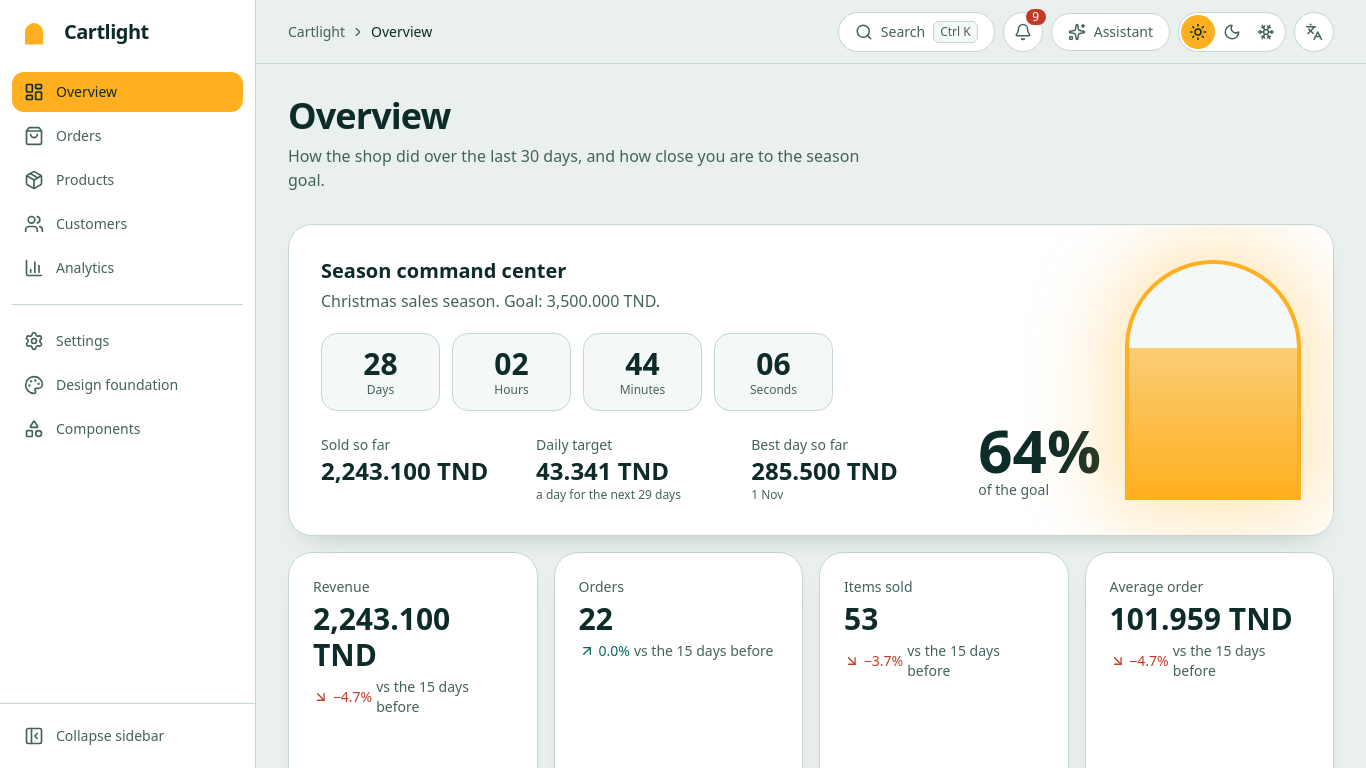
Test case: notifications center › marks everything as read
Click the button named "Notifications" at (1023, 32), box [1003,12,1043,52]
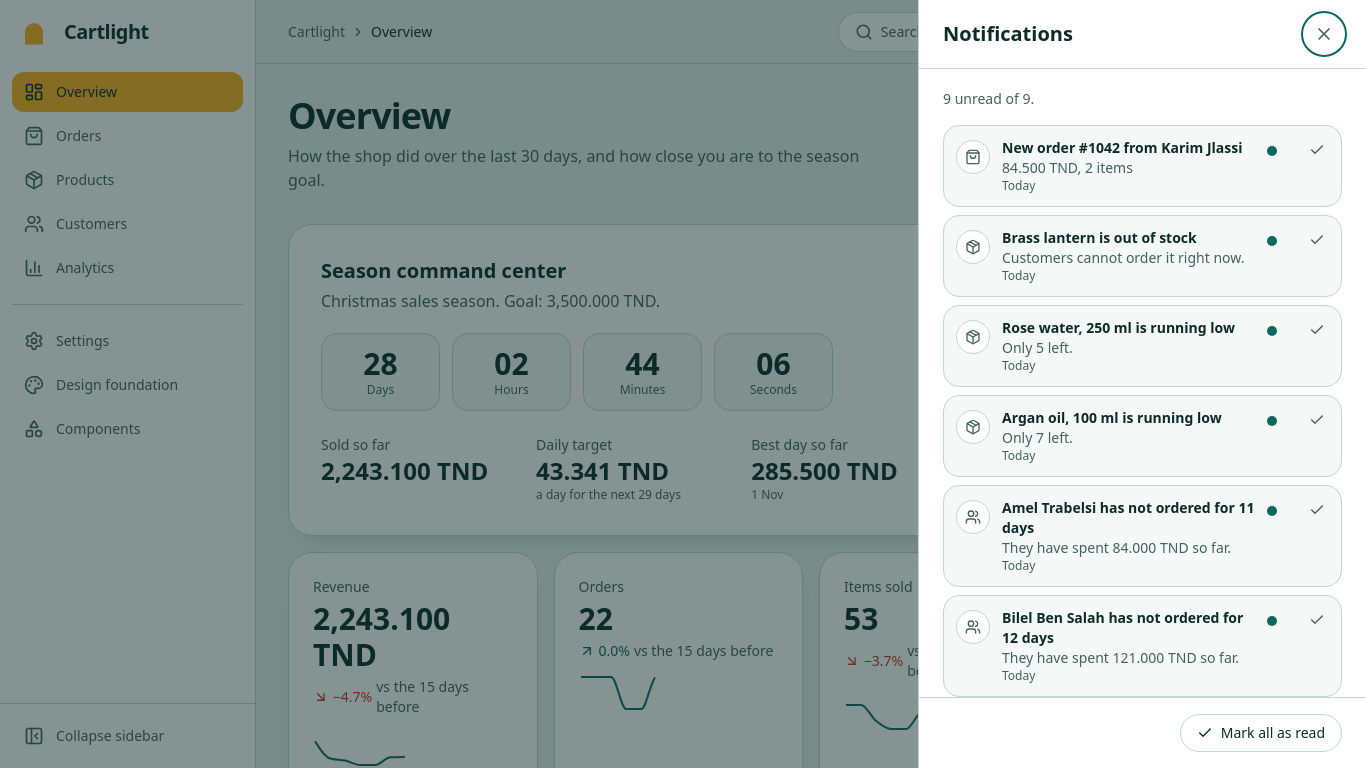
Click the button "Mark all as read" at (1261, 733), box [1180,714,1342,752]
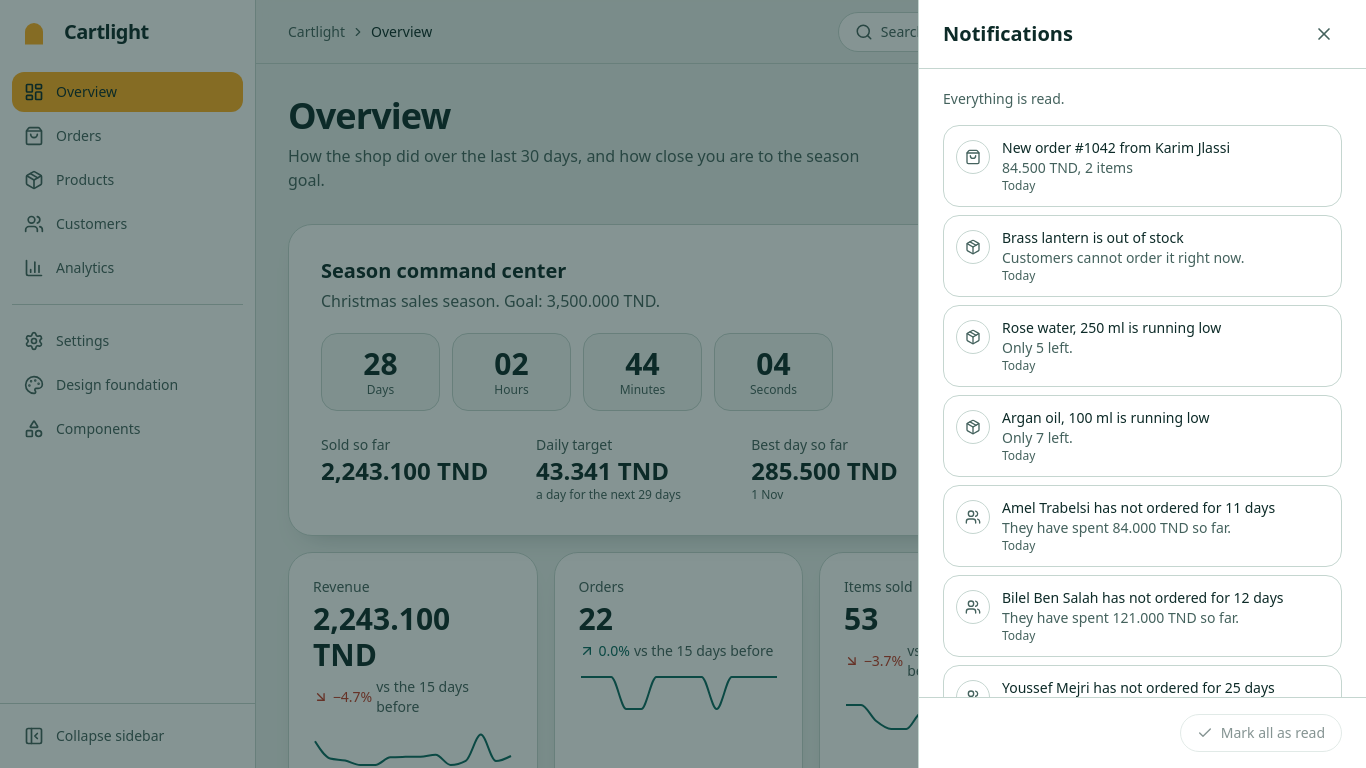
Check: the button named "Notifications" is shown, box [1003,12,1043,52]
Check: the text "Everything is read." is shown, box [943,89,1064,108]
Check: the button "Mark all as read" is disabled, box [1180,714,1342,752]
